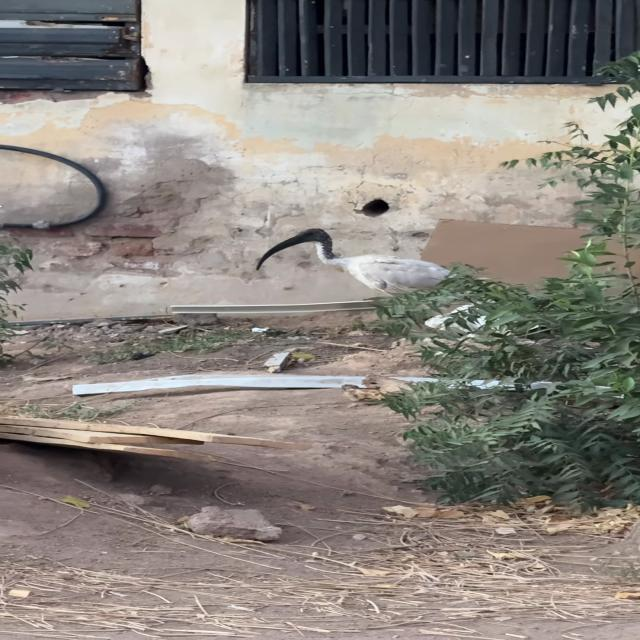Birds-Ibis: (252, 225, 488, 299)
